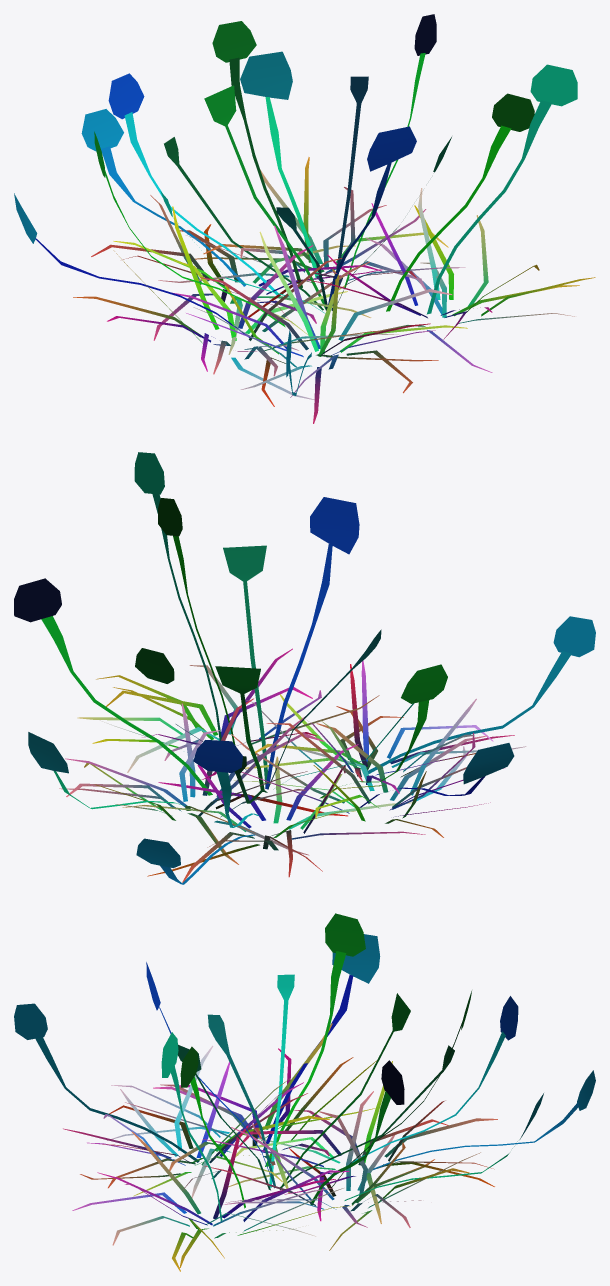
The model's file is Sea_Thrift_vkbgaihha_Mid_vkbgaihha_VarE_LOD2.fbx.
The picture shows the model from 3 angles, top to bottom: view 1: azimuth 30°, elevation 25°; view 2: azimuth 150°, elevation 25°; view 3: azimuth 270°, elevation 25°; orthographic projection. The views are drawn at different scales.
Visible parts, largest first — view 1: _o75p_VarE_LOD3; view 2: _o75p_VarE_LOD3; view 3: _o75p_VarE_LOD3.
Part boxes in pixels (left/top/right/bottom): _o75p_VarE_LOD3: left=14, top=14, right=595, bottom=423; _o75p_VarE_LOD3: left=14, top=452, right=595, bottom=884; _o75p_VarE_LOD3: left=14, top=913, right=595, bottom=1271.
Size of the model in its own units: 30.45 by 14.79 by 33.29.
